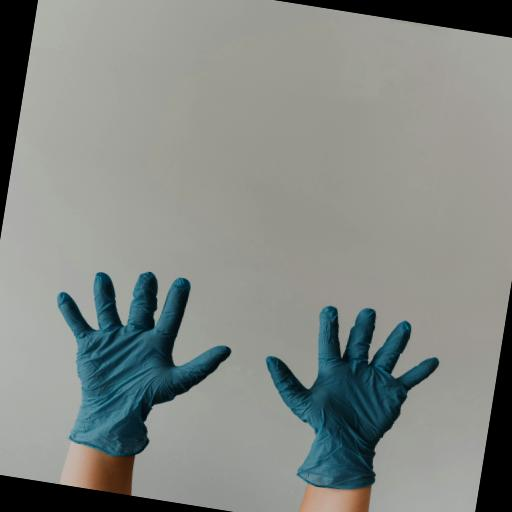Gloves: (17, 245, 456, 512)
